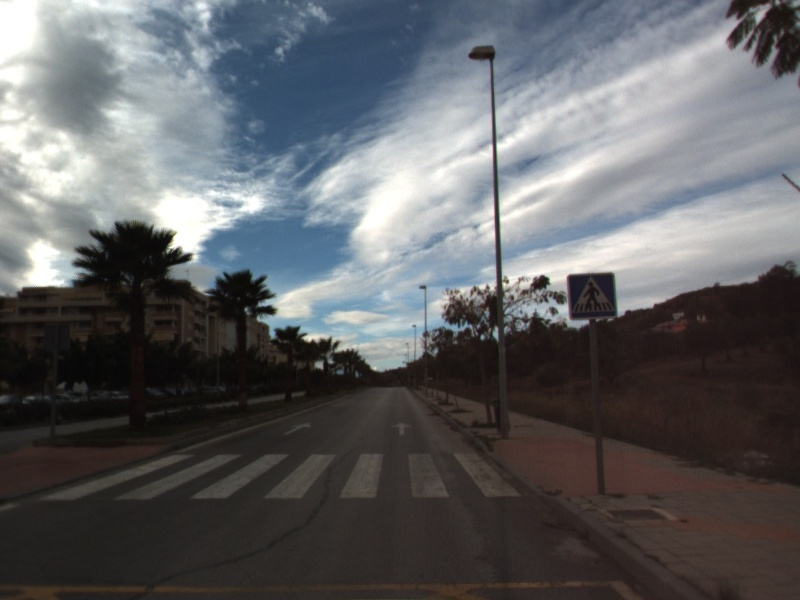STRAIGHT: (281, 420, 313, 437), (390, 420, 414, 437)
